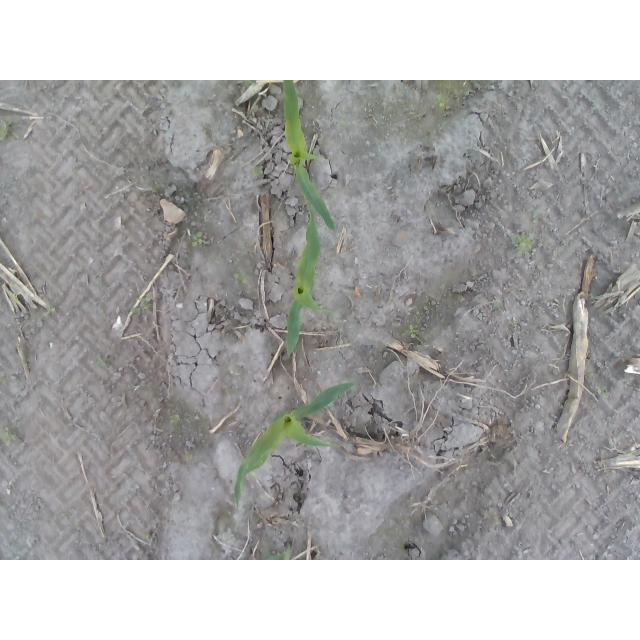Maize: (235, 381, 358, 507), (285, 180, 339, 354), (282, 80, 339, 233)
Weeds: (513, 231, 536, 250), (129, 296, 151, 315), (594, 385, 611, 399), (193, 233, 208, 248), (0, 431, 16, 445), (407, 325, 421, 340), (233, 272, 247, 285), (252, 165, 264, 179), (45, 303, 56, 317), (0, 120, 8, 139), (438, 94, 446, 111), (182, 453, 194, 463), (98, 354, 107, 367), (493, 301, 502, 311), (169, 414, 180, 422)
